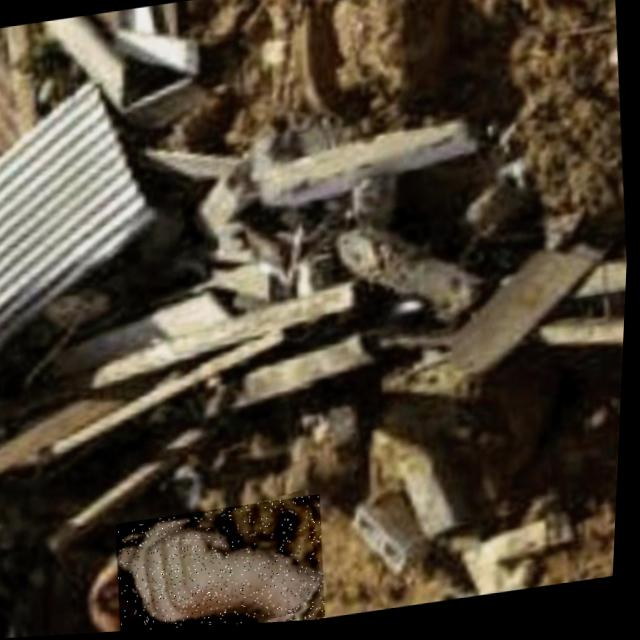Person in Rubble: (117, 497, 335, 634)
